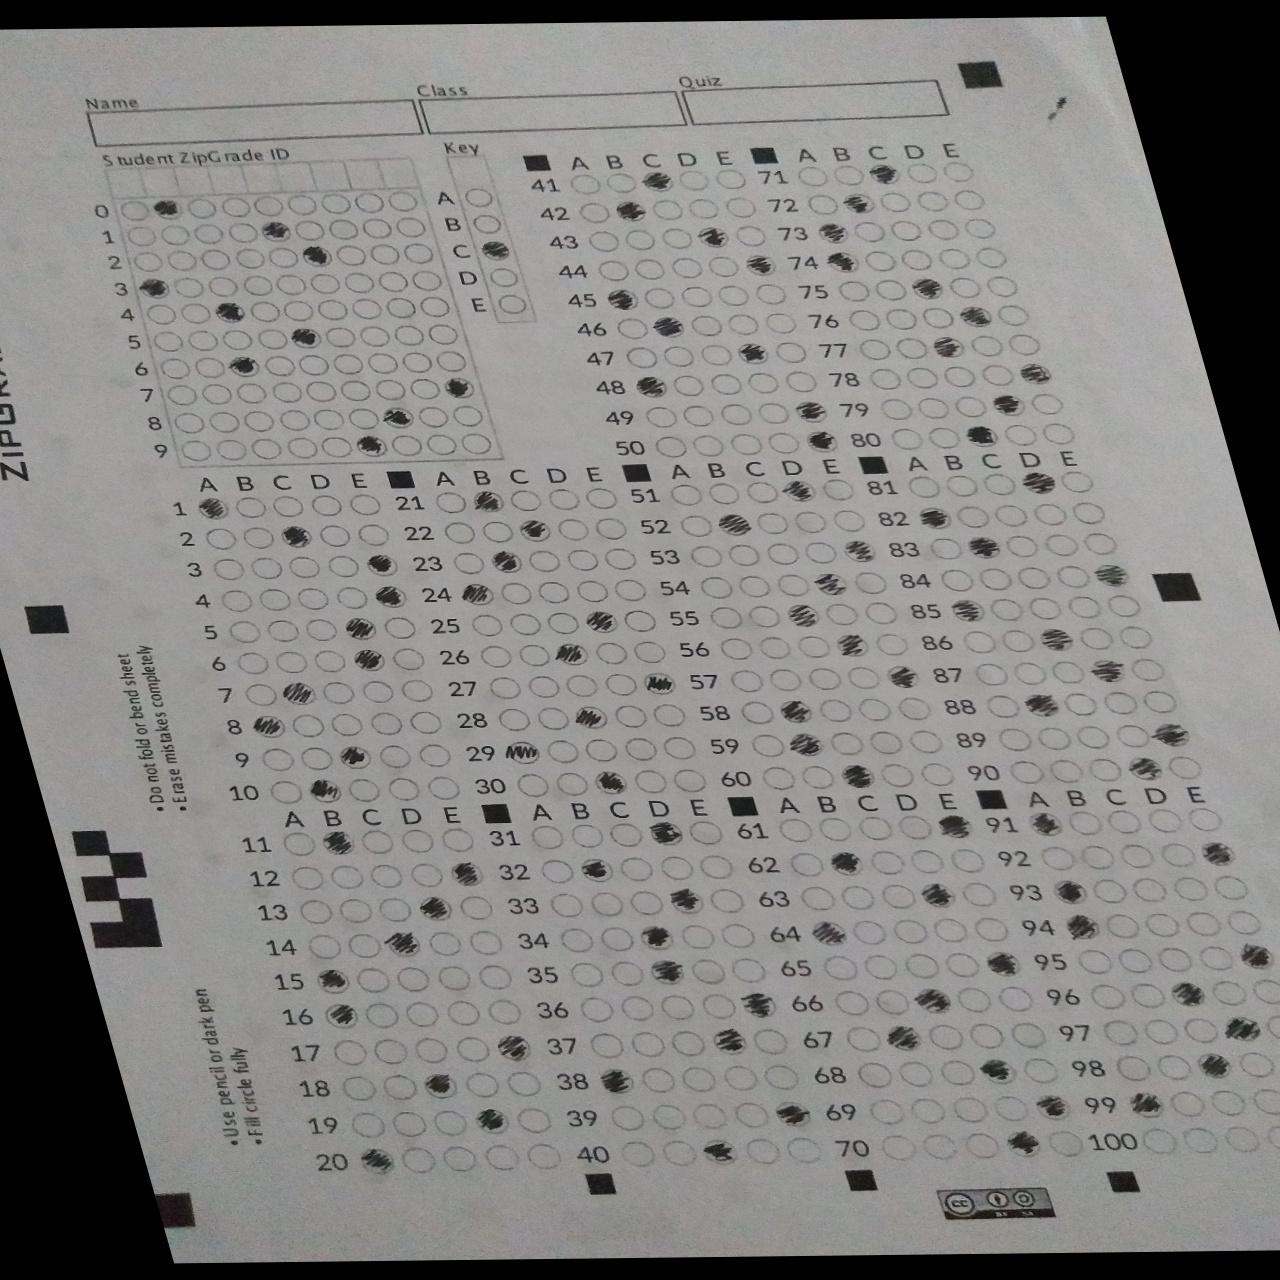not-c: (320, 863, 370, 891), (324, 1036, 374, 1064), (811, 954, 862, 982), (946, 1096, 996, 1124), (899, 954, 949, 982), (835, 883, 885, 911), (952, 628, 1001, 656), (989, 726, 1039, 754), (341, 1110, 390, 1138), (299, 933, 348, 961), (275, 830, 325, 858), (523, 822, 572, 850), (747, 1027, 796, 1055), (716, 1064, 765, 1092), (695, 995, 744, 1023), (859, 1096, 908, 1124), (838, 1026, 887, 1054), (778, 853, 828, 881), (774, 817, 823, 845), (951, 985, 1000, 1013), (922, 1023, 972, 1051), (888, 919, 938, 947), (863, 847, 912, 876), (867, 988, 917, 1016), (888, 1060, 938, 1088), (973, 693, 1023, 720), (998, 760, 1048, 787), (1080, 756, 1130, 783), (334, 1074, 384, 1101), (782, 1136, 832, 1163), (655, 856, 706, 883), (726, 958, 776, 985), (706, 890, 756, 917), (844, 1060, 894, 1087), (988, 1094, 1039, 1121), (931, 1058, 981, 1085), (852, 815, 903, 842), (350, 967, 399, 995), (551, 926, 599, 954), (1141, 808, 1189, 836), (1208, 874, 1257, 903), (896, 474, 945, 501), (1094, 689, 1143, 716), (340, 933, 389, 960), (290, 898, 339, 925), (281, 864, 331, 891), (375, 1073, 424, 1099), (457, 1073, 506, 1099), (508, 1107, 557, 1133), (436, 828, 485, 855), (661, 1030, 710, 1057), (757, 1063, 806, 1090), (737, 1138, 787, 1165), (727, 1102, 776, 1129), (685, 960, 734, 987), (719, 922, 768, 949), (697, 855, 747, 881), (900, 1096, 949, 1123), (825, 989, 874, 1016), (791, 886, 840, 913), (874, 881, 924, 908), (813, 818, 863, 845), (846, 919, 896, 946), (853, 956, 903, 983), (1204, 979, 1251, 1007), (1232, 1048, 1279, 1076), (1177, 1016, 1224, 1044), (1194, 944, 1241, 972), (1182, 910, 1228, 938), (1167, 874, 1214, 903), (918, 536, 966, 563), (930, 567, 978, 594), (1041, 757, 1089, 784), (1107, 722, 1155, 749), (329, 898, 377, 925), (404, 862, 452, 888), (433, 964, 481, 990), (424, 1110, 472, 1137), (353, 828, 401, 855), (602, 1105, 651, 1132), (611, 994, 659, 1021), (654, 1139, 702, 1166), (636, 1067, 685, 1094), (625, 1032, 673, 1058), (581, 893, 629, 920), (605, 821, 653, 847), (678, 925, 726, 952), (683, 819, 731, 846), (964, 1021, 1012, 1048), (1126, 878, 1175, 905), (1158, 947, 1204, 975), (369, 899, 418, 925), (499, 1071, 549, 1097), (395, 1148, 442, 1175), (441, 1000, 488, 1027), (479, 1144, 526, 1171), (362, 862, 409, 888), (583, 1032, 629, 1058), (687, 1103, 734, 1130), (1205, 1091, 1252, 1118), (1139, 912, 1186, 939), (1155, 844, 1201, 871), (1182, 808, 1228, 835), (1220, 910, 1267, 937), (962, 660, 1010, 686), (615, 857, 663, 883), (386, 1112, 434, 1138), (369, 1037, 417, 1063), (358, 1001, 406, 1027), (445, 1037, 493, 1063), (434, 1146, 482, 1172), (399, 1002, 447, 1028), (392, 966, 440, 992), (573, 998, 621, 1023), (615, 1143, 663, 1169), (483, 1000, 531, 1026), (451, 896, 499, 921), (624, 892, 672, 918), (654, 994, 702, 1020), (645, 1103, 693, 1129), (601, 961, 649, 987), (592, 925, 640, 951), (544, 896, 592, 921), (535, 857, 583, 883), (1006, 659, 1053, 685), (824, 730, 871, 756), (815, 699, 862, 724), (740, 731, 787, 757), (699, 604, 745, 629), (842, 665, 888, 690), (285, 712, 332, 737), (260, 779, 307, 805), (229, 652, 275, 678), (216, 619, 263, 645), (559, 670, 606, 696), (508, 641, 554, 667), (501, 611, 547, 636), (508, 772, 554, 798), (543, 488, 590, 513), (440, 550, 486, 576), (610, 577, 656, 602), (592, 516, 639, 542), (602, 549, 649, 574), (617, 734, 663, 760), (393, 828, 440, 853), (406, 1037, 452, 1063), (561, 962, 608, 988), (522, 1144, 568, 1170), (472, 964, 519, 989), (676, 1067, 723, 1092), (565, 823, 612, 849), (956, 881, 1001, 908), (942, 849, 987, 876), (918, 1133, 962, 1160), (1007, 1022, 1051, 1049), (1136, 1128, 1180, 1155), (465, 928, 508, 956), (1024, 595, 1073, 620), (1073, 624, 1121, 648), (712, 636, 760, 661), (703, 482, 749, 508), (730, 702, 776, 728), (661, 481, 707, 506), (790, 510, 836, 536), (399, 679, 444, 704), (389, 645, 435, 670), (312, 522, 358, 547), (316, 679, 362, 704), (309, 649, 355, 675), (247, 556, 293, 581), (366, 712, 411, 737), (578, 486, 624, 512), (490, 704, 536, 730), (469, 645, 515, 670), (438, 520, 484, 546), (425, 489, 471, 515), (552, 516, 598, 542), (540, 611, 586, 636), (522, 550, 567, 576), (874, 1133, 918, 1160), (959, 1131, 1002, 1158), (1179, 1128, 1223, 1155), (1043, 1129, 1087, 1156), (1064, 810, 1108, 837), (1087, 983, 1130, 1010), (1073, 949, 1116, 976), (1115, 843, 1158, 870), (1139, 1019, 1183, 1046), (1101, 913, 1144, 940), (858, 601, 905, 626), (985, 595, 1032, 620), (971, 566, 1017, 591), (949, 505, 996, 530), (988, 504, 1035, 529), (819, 602, 866, 627), (722, 543, 769, 567), (794, 763, 840, 788), (680, 544, 727, 568), (797, 542, 844, 566), (871, 633, 918, 658), (892, 695, 939, 720), (917, 762, 964, 787), (876, 763, 922, 788), (355, 680, 402, 704), (349, 492, 396, 517), (307, 495, 354, 519), (327, 714, 374, 738), (252, 588, 299, 613), (234, 526, 281, 551), (268, 651, 315, 675), (529, 704, 576, 729), (493, 581, 540, 606), (672, 770, 719, 795), (533, 580, 580, 605), (1020, 1058, 1064, 1084), (1103, 810, 1148, 836), (1126, 983, 1171, 1009), (1220, 1126, 1262, 1153), (1099, 1017, 1142, 1044), (1037, 844, 1080, 871), (670, 513, 719, 537), (207, 559, 256, 583), (815, 479, 860, 504), (1002, 533, 1048, 558), (1063, 594, 1109, 619), (1071, 726, 1117, 750), (1032, 727, 1077, 751), (804, 666, 850, 690), (789, 635, 835, 660), (731, 576, 777, 600), (742, 605, 788, 629), (751, 635, 797, 660), (761, 667, 806, 692), (753, 765, 798, 790), (723, 668, 769, 693), (853, 697, 899, 722), (905, 728, 951, 753), (375, 744, 421, 769), (333, 585, 379, 610), (342, 777, 388, 802), (302, 617, 348, 641), (285, 554, 331, 579), (267, 493, 313, 518), (256, 748, 301, 772), (538, 738, 584, 763), (506, 490, 552, 515), (481, 676, 526, 701), (590, 642, 635, 667), (564, 550, 610, 574), (629, 770, 675, 795), (930, 918, 973, 944), (993, 985, 1036, 1010), (1152, 1054, 1196, 1080), (1167, 1091, 1211, 1117), (1116, 948, 1159, 974), (826, 511, 873, 535), (994, 629, 1041, 653), (1010, 565, 1057, 588), (751, 512, 798, 536), (382, 777, 429, 801), (413, 745, 459, 769), (406, 710, 452, 734), (291, 588, 338, 612), (195, 527, 241, 551), (549, 772, 595, 796), (475, 520, 522, 544), (619, 610, 666, 633), (629, 641, 676, 665), (851, 571, 896, 595), (771, 572, 816, 597), (694, 573, 738, 598), (423, 775, 468, 799), (354, 524, 399, 549), (295, 748, 340, 772), (213, 590, 258, 614), (573, 581, 618, 606), (653, 701, 697, 726), (908, 849, 951, 874), (896, 816, 938, 842), (969, 917, 1012, 942), (1114, 1055, 1156, 1081), (1047, 661, 1092, 685), (1058, 692, 1104, 715), (321, 553, 367, 577), (226, 498, 272, 522), (233, 683, 279, 707), (523, 674, 568, 697), (461, 615, 506, 639), (610, 703, 655, 727), (941, 953, 985, 978), (1087, 878, 1130, 903), (1075, 845, 1118, 870), (658, 735, 699, 761), (425, 930, 467, 955), (762, 542, 806, 565), (742, 481, 787, 504), (865, 731, 910, 755), (376, 617, 421, 640), (263, 621, 307, 645), (580, 738, 625, 762), (601, 674, 646, 697), (1244, 1088, 1280, 1116), (384, 434, 425, 458), (281, 435, 322, 459), (181, 197, 222, 220), (170, 275, 211, 299), (188, 223, 229, 246), (159, 248, 200, 272), (331, 245, 372, 268), (279, 300, 320, 324), (246, 300, 287, 324), (302, 377, 343, 401), (292, 353, 333, 376), (373, 271, 414, 294), (392, 218, 433, 241), (355, 218, 396, 241), (347, 299, 388, 322), (940, 474, 981, 497), (731, 225, 772, 248), (720, 313, 761, 336), (706, 373, 747, 396), (648, 199, 689, 223), (629, 258, 670, 281), (621, 346, 662, 369), (574, 200, 615, 224), (862, 251, 903, 274), (915, 306, 956, 329), (1005, 333, 1046, 356), (949, 188, 990, 211), (937, 159, 978, 183), (903, 161, 944, 184), (828, 164, 869, 188), (315, 435, 358, 457), (349, 191, 389, 215), (155, 224, 195, 247), (170, 411, 210, 435), (156, 224, 196, 247), (340, 272, 380, 295), (250, 327, 290, 350), (372, 379, 411, 402), (363, 354, 403, 377), (354, 325, 394, 348), (343, 408, 383, 431), (273, 408, 313, 431), (268, 379, 308, 402), (260, 354, 300, 377), (714, 285, 754, 308), (715, 403, 755, 427), (696, 343, 736, 367), (658, 226, 697, 250), (689, 433, 729, 456), (458, 186, 498, 210), (903, 366, 942, 389), (886, 427, 926, 450), (722, 197, 762, 220), (915, 191, 955, 215), (897, 248, 937, 272), (969, 334, 1009, 358), (1029, 392, 1069, 415), (994, 305, 1034, 328), (960, 215, 1000, 238), (1114, 625, 1153, 648), (1067, 502, 1107, 525), (1247, 978, 1280, 1006), (248, 195, 290, 217), (216, 196, 257, 218), (399, 241, 440, 264), (154, 359, 195, 381), (175, 301, 216, 324), (141, 302, 182, 325), (204, 275, 245, 298), (211, 440, 252, 462), (204, 411, 245, 434), (288, 219, 329, 241), (399, 352, 440, 374), (328, 353, 369, 375), (753, 402, 794, 424), (762, 313, 803, 335), (764, 433, 805, 455), (678, 286, 719, 308), (617, 230, 658, 252), (659, 346, 700, 368), (668, 374, 709, 396), (651, 437, 692, 459), (566, 173, 607, 196), (481, 266, 522, 288), (490, 294, 531, 316), (888, 338, 930, 360), (874, 399, 915, 421), (855, 339, 896, 361), (845, 308, 886, 331), (934, 247, 975, 270), (945, 275, 986, 298), (998, 423, 1039, 445), (982, 274, 1023, 297), (972, 246, 1013, 268), (978, 474, 1019, 496), (1107, 593, 1148, 615), (1041, 535, 1082, 557), (1139, 692, 1180, 714), (1130, 660, 1171, 682), (264, 246, 302, 270), (114, 199, 154, 222), (383, 191, 423, 213), (414, 406, 454, 428), (120, 226, 159, 248), (176, 438, 216, 461), (184, 329, 224, 352), (164, 384, 204, 407), (229, 247, 268, 270), (195, 248, 234, 271), (125, 251, 165, 273), (248, 437, 288, 459), (232, 382, 272, 404), (197, 384, 237, 407), (189, 358, 229, 380), (182, 329, 222, 352), (315, 301, 355, 324), (326, 219, 366, 241), (305, 274, 345, 297), (272, 274, 312, 297), (406, 379, 445, 401), (433, 349, 472, 372), (336, 380, 376, 402), (321, 327, 361, 349), (308, 407, 348, 429), (383, 297, 423, 319), (409, 270, 449, 292), (457, 433, 497, 455), (450, 404, 490, 427), (420, 433, 459, 455), (751, 282, 791, 305), (771, 342, 811, 365), (781, 370, 821, 393), (724, 431, 764, 454), (686, 315, 726, 338), (667, 258, 707, 280), (602, 172, 642, 195), (641, 288, 681, 311), (611, 316, 651, 339), (593, 259, 633, 281), (583, 230, 622, 252), (880, 308, 920, 331), (922, 427, 962, 449), (865, 369, 905, 392), (835, 281, 874, 304), (795, 165, 835, 188), (713, 169, 753, 191), (678, 169, 717, 191), (683, 198, 723, 220), (925, 219, 965, 241), (948, 395, 988, 417), (978, 363, 1017, 386), (1039, 422, 1078, 444), (1058, 471, 1098, 493), (877, 190, 917, 212), (1030, 503, 1070, 525), (1167, 757, 1207, 779), (1055, 566, 1095, 588), (1080, 533, 1119, 556), (147, 331, 188, 352), (239, 411, 280, 433), (414, 297, 455, 318), (467, 213, 508, 234), (938, 365, 979, 386), (316, 192, 355, 215), (704, 256, 743, 278), (282, 193, 322, 215), (222, 222, 261, 243), (237, 275, 277, 297), (216, 329, 256, 350), (420, 324, 459, 345), (392, 324, 431, 345), (742, 372, 782, 393), (679, 406, 719, 427), (640, 406, 680, 427), (913, 399, 953, 420), (869, 281, 908, 302), (851, 222, 891, 243), (801, 195, 840, 216), (888, 222, 928, 243), (368, 243, 400, 264), (1262, 1013, 1280, 1041), (1262, 1126, 1280, 1152), (1274, 1049, 1280, 1077)
taken-c: (1228, 941, 1280, 969), (972, 1057, 1023, 1085), (629, 922, 680, 951), (379, 931, 429, 959), (488, 1033, 538, 1061), (1122, 754, 1172, 782), (821, 850, 872, 877), (910, 881, 961, 908), (877, 1024, 928, 1051), (663, 888, 713, 917), (804, 919, 853, 947), (640, 956, 689, 985), (1189, 1051, 1238, 1080), (1032, 624, 1081, 652), (636, 818, 687, 845), (590, 1067, 640, 1094), (414, 1073, 464, 1099), (409, 896, 459, 922), (312, 828, 362, 855), (1047, 878, 1097, 905), (1218, 1015, 1268, 1042), (1121, 1090, 1171, 1117), (1028, 1094, 1078, 1121), (998, 1130, 1048, 1157), (577, 610, 627, 636), (1017, 692, 1068, 719), (978, 949, 1026, 978), (244, 713, 293, 740), (564, 701, 613, 728), (703, 1026, 753, 1053), (734, 992, 783, 1019), (352, 1146, 401, 1173), (465, 1107, 515, 1133), (315, 1002, 365, 1029), (309, 966, 359, 993), (1022, 811, 1071, 838), (930, 813, 979, 840), (442, 860, 491, 887), (572, 855, 621, 881), (1057, 914, 1107, 941), (1165, 980, 1214, 1007), (908, 987, 958, 1014), (765, 1099, 815, 1126), (695, 1138, 744, 1165), (770, 699, 819, 726), (355, 551, 404, 578), (367, 583, 416, 610), (274, 679, 324, 706), (1083, 658, 1132, 685), (331, 744, 381, 770), (876, 663, 926, 689), (1087, 561, 1135, 588), (944, 598, 992, 625), (828, 632, 876, 659), (1146, 720, 1194, 747), (586, 768, 635, 794), (779, 730, 829, 756), (496, 738, 545, 764), (836, 764, 885, 790), (1193, 839, 1242, 865), (300, 777, 348, 803), (549, 641, 595, 667), (956, 421, 1003, 447), (910, 505, 956, 531), (961, 535, 1008, 560), (712, 512, 758, 538), (903, 274, 949, 300), (985, 393, 1032, 418), (636, 670, 681, 697), (818, 250, 864, 275), (130, 277, 176, 302), (481, 549, 527, 573), (1016, 470, 1063, 495), (778, 602, 825, 627), (465, 490, 512, 515), (455, 581, 499, 607), (511, 517, 557, 542), (272, 524, 318, 549), (188, 496, 233, 520), (809, 219, 855, 244), (953, 305, 999, 329), (735, 252, 781, 277), (689, 224, 735, 248), (859, 162, 905, 186), (835, 192, 880, 217), (789, 401, 832, 427), (836, 539, 883, 563), (806, 572, 853, 595), (925, 335, 972, 359), (607, 199, 654, 223), (629, 375, 672, 401), (776, 479, 822, 503), (1012, 361, 1057, 384), (636, 169, 678, 195), (346, 647, 390, 670), (339, 617, 381, 641), (377, 406, 417, 431), (252, 219, 298, 241), (645, 315, 688, 339), (799, 428, 840, 452), (285, 326, 326, 350), (599, 288, 644, 311), (222, 354, 264, 377), (733, 341, 775, 365), (435, 376, 478, 399), (294, 245, 338, 267), (350, 434, 392, 457), (474, 241, 518, 263), (209, 301, 250, 324), (147, 197, 185, 218)
